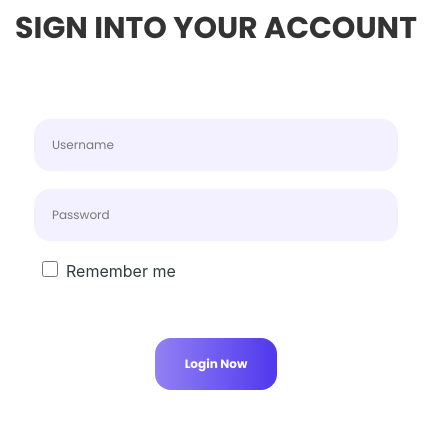
Test: Form Test › Should display validation error for password with insufficient length.
Type "test@test.com" into the field with placeholder "Username". click: (216, 145)
box: [34, 119, 398, 171]
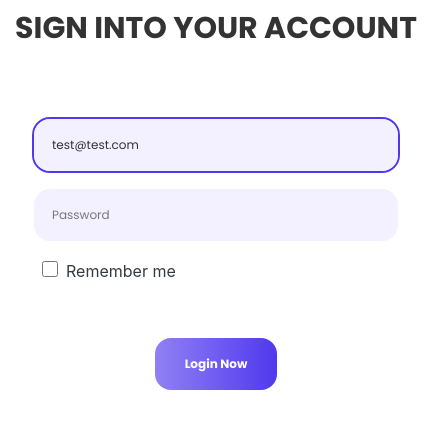
Type "1234" into the password field with placeholder "Password". click: (216, 215)
box: [34, 189, 398, 241]
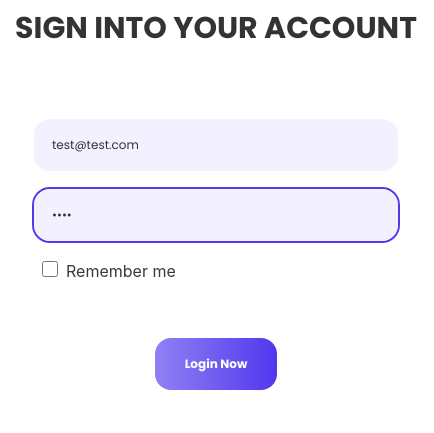
Click the button "Login Now". click: (216, 364)
box: [155, 338, 277, 390]
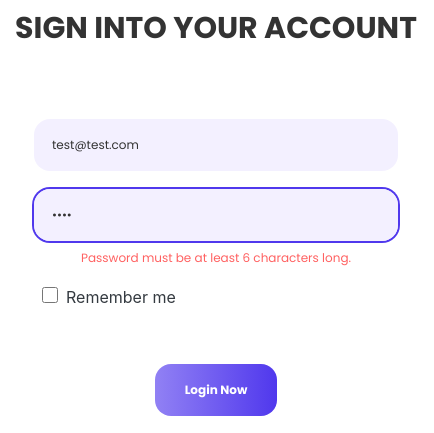
Result: the text "Password must be at least 6 characters long." is shown at [81, 249, 351, 266]
